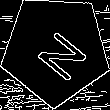N_NW: (25, 19, 87, 81)
